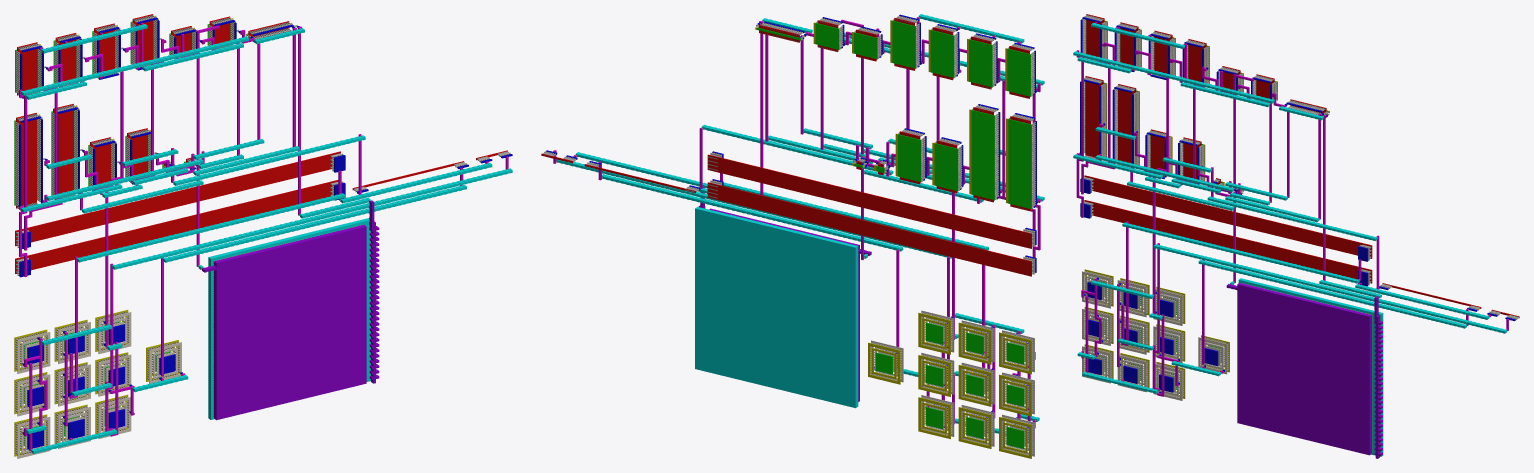
Rendered from bandgap.glb.
3 views of the same model, side by side, from view 1: azimuth 30°, elevation 25°; view 2: azimuth 150°, elevation 25°; view 3: azimuth 330°, elevation 25° (orthographic). The views are drawn at different scales.
Parts seen in each view (by area): view 1: met4_0, poly_3, poly_2, met3_7, met3_9, met3_8, met4_1, met3_12, poly_9, met3_27, poly_8, met3_14 (+20 smaller); view 2: met3_7, poly_2, poly_3, diff_15, diff_14, met3_8, met3_12, diff_12, diff_21, met3_9, diff_20, diff_22 (+11 smaller); view 3: met4_0, poly_3, poly_2, met3_9, met3_7, met3_8, met4_1, met3_12, poly_8, poly_9, met3_27, met3_14 (+16 smaller).
Part boxes in pixels (x1,y1,x2,y2): met4_0: (202,225,366,420); poly_3: (15,151,340,246); poly_2: (15,180,338,273); met3_7: (208,218,370,419); met3_9: (112,168,512,269); met3_8: (163,185,466,262); met4_1: (369,200,379,383); met3_12: (77,193,345,262); poly_9: (53,103,73,193); met3_27: (21,36,248,95); poly_8: (16,113,36,208); met3_14: (173,135,365,185); met3_7: (695,207,858,408); poly_2: (707,182,1031,276); poly_3: (707,154,1031,248); diff_15: (971,110,994,200); diff_14: (1008,119,1031,208); met3_8: (602,174,903,251); met3_12: (723,182,988,250); diff_12: (934,143,958,191); diff_21: (930,30,954,77); met3_9: (556,159,951,258); diff_20: (969,39,992,87); diff_22: (892,20,915,68); met4_0: (1226,283,1371,455); poly_3: (1084,175,1372,258); poly_2: (1084,200,1372,283); met3_9: (1153,244,1507,333); met3_7: (1238,278,1383,456); met3_8: (1198,260,1466,328); met4_1: (1374,296,1382,458); met3_12: (1122,222,1359,283); poly_8: (1085,76,1103,157); poly_9: (1118,84,1136,163); met3_27: (1073,51,1274,103); met3_14: (1207,196,1377,240).
Size of the model in its own units: 97.62 by 77.25 by 5.08.
